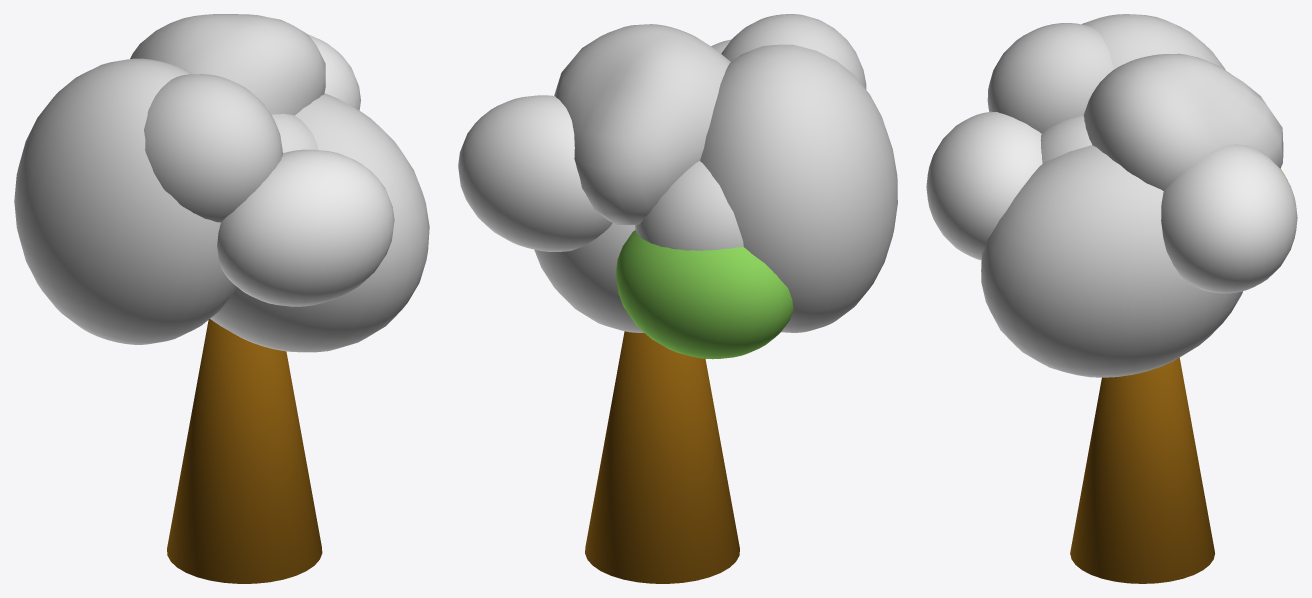
File: arvore2.fbx
3 views of the same model, side by side, from view 1: azimuth 30°, elevation 25°; view 2: azimuth 150°, elevation 25°; view 3: azimuth 270°, elevation 25° (orthographic). The views are drawn at different scales.
Visible parts, largest first — view 1: Esfera UV.005, Cone, Esfera UV, Esfera UV.001; view 2: Esfera UV.005, Cone, Esfera UV.001, Esfera UV.002; view 3: Esfera UV.005, Cone, Esfera UV.001, Esfera UV.
Boxes of the visible parts, x1,y1,x2,y2 form: Esfera UV.005: (14,14,429,352); Cone: (167,319,322,583); Esfera UV: (217,149,394,306); Esfera UV.001: (308,34,360,110); Esfera UV.005: (534,14,897,332); Cone: (585,331,739,583); Esfera UV.001: (458,95,612,251); Esfera UV.002: (616,230,793,359); Esfera UV.005: (981,14,1283,377); Cone: (1070,357,1214,583); Esfera UV.001: (1161,144,1297,293); Esfera UV: (926,111,1042,260).
Bounding box in the file's own units: 543 × 743 × 512.
